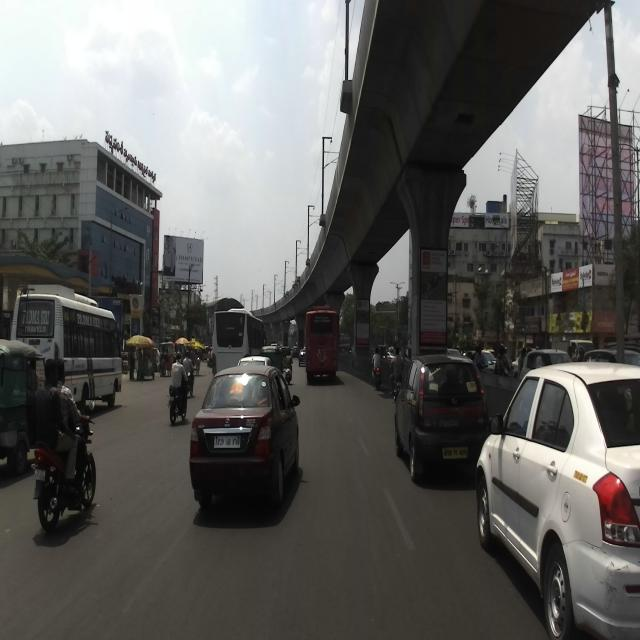car: (475, 358, 639, 640), (189, 364, 300, 510), (394, 353, 489, 484)
mini-bus: (9, 279, 126, 414)
motorcycle: (30, 397, 97, 533)
